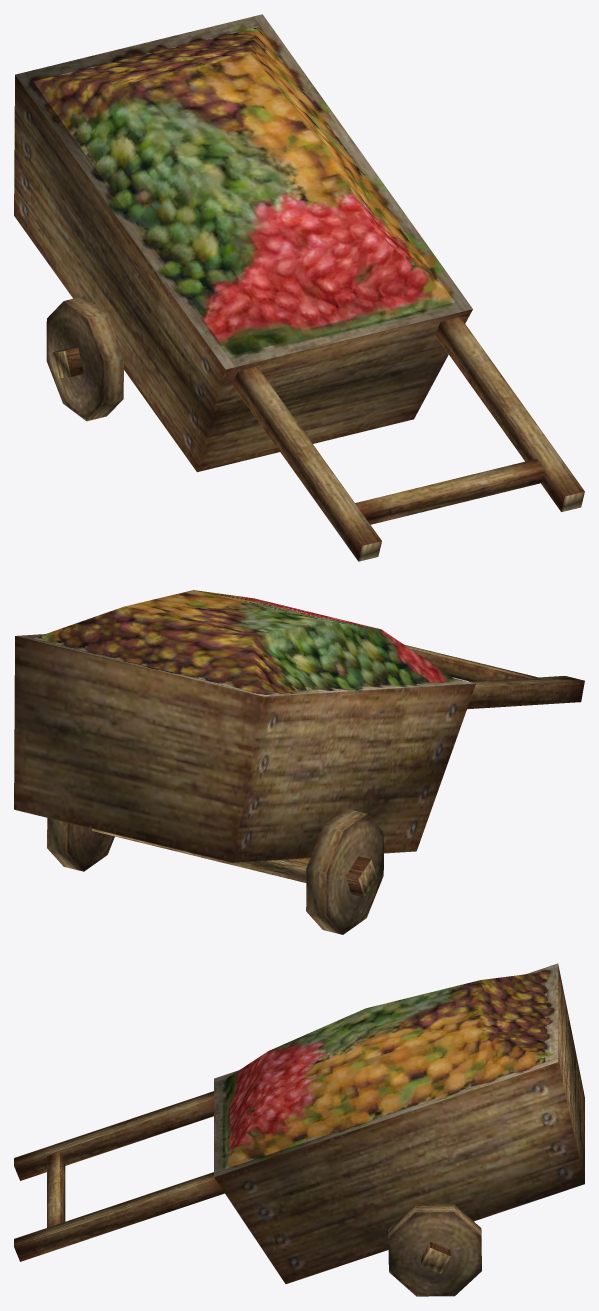
File: hot_minga_handcart_02@s80.glb
3 views of the same model, one above another, from view 1: azimuth 30°, elevation 25°; view 2: azimuth 150°, elevation 25°; view 3: azimuth 270°, elevation 25° (orthographic). The views are drawn at different scales.
Visible parts, largest first — view 1: hot_minga_handcart_02; view 2: hot_minga_handcart_02; view 3: hot_minga_handcart_02.
Part boxes in pixels (box(x1,y1,x2,y2)): hot_minga_handcart_02: box(14, 14, 584, 561); hot_minga_handcart_02: box(14, 590, 584, 934); hot_minga_handcart_02: box(14, 963, 584, 1296).
Size of the model in its own units: 1.61 by 1.45 by 3.18.
1 material, 1 textured.
